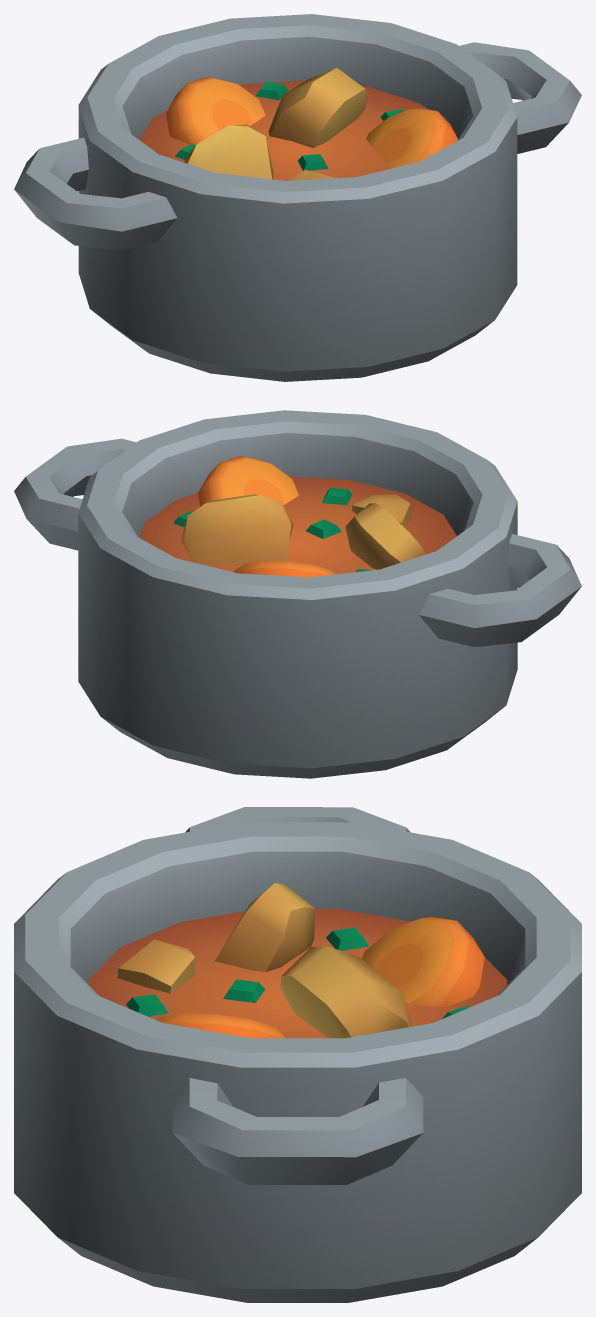
The model's file is pot-a-stew.glb.
3 views of the same model, one above another, from view 1: azimuth 30°, elevation 25°; view 2: azimuth 150°, elevation 25°; view 3: azimuth 270°, elevation 25° (orthographic). The views are drawn at different scales.
Parts seen in each view (by area): view 1: pot_A_stew; view 2: pot_A_stew; view 3: pot_A_stew.
Part boxes in pixels (x1,y1,x2,y2): pot_A_stew: (14, 14, 581, 381); pot_A_stew: (14, 410, 581, 778); pot_A_stew: (14, 807, 581, 1302).
Size of the model in its own units: 1.4 by 0.516 by 1.
1 material, 1 textured.
